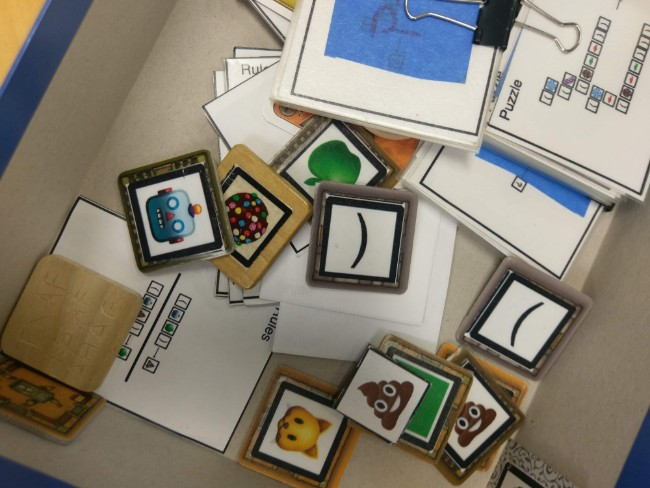cookie: (195, 158, 294, 271)
